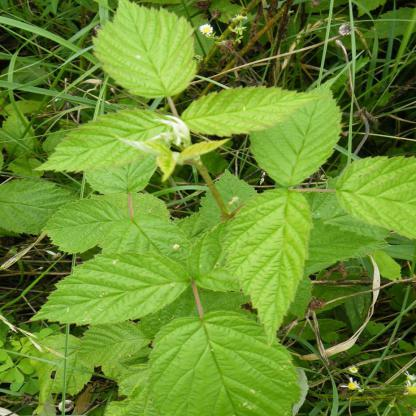raspberry leaf: (146, 311, 296, 416), (223, 187, 312, 346), (19, 250, 197, 326), (90, 0, 200, 106), (246, 75, 343, 188), (33, 103, 182, 171), (181, 80, 319, 140), (334, 154, 415, 242)
